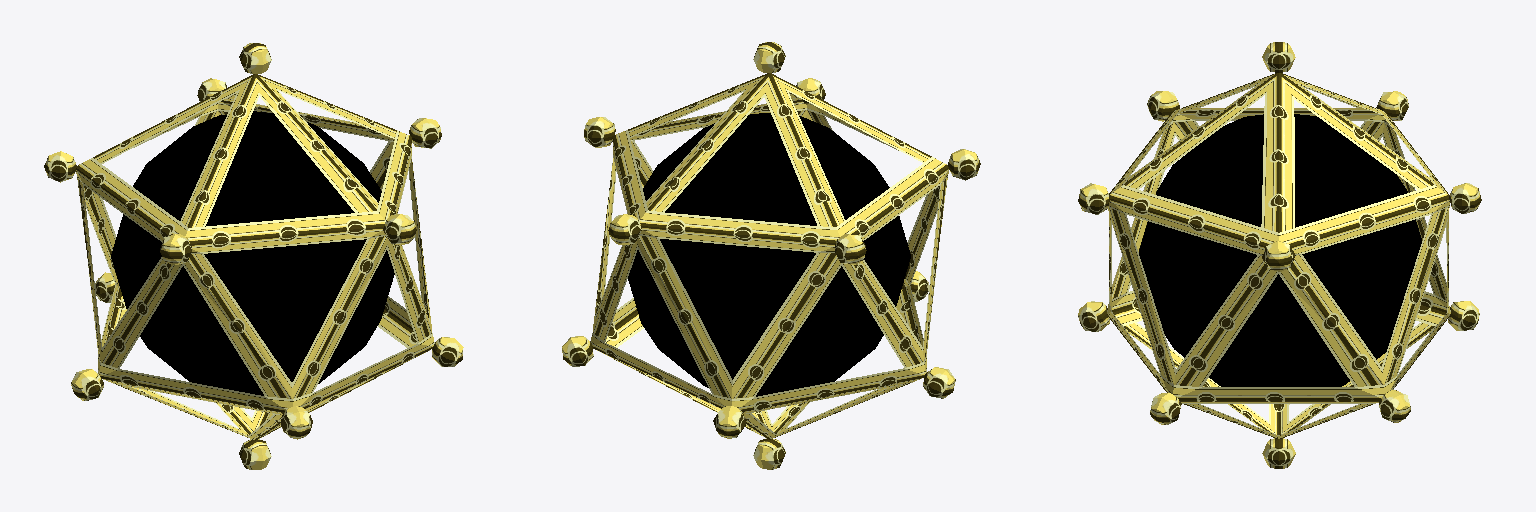
The picture shows the model from 3 angles: view 1: azimuth 30°, elevation 25°; view 2: azimuth 150°, elevation 25°; view 3: azimuth 270°, elevation 25°; orthographic projection.
Parts seen in each view (by area): view 1: creature/titanorb/titanorb.m2_Geoset_000; view 2: creature/titanorb/titanorb.m2_Geoset_000; view 3: creature/titanorb/titanorb.m2_Geoset_000.
Part boxes in pixels (left/top/right/bottom): creature/titanorb/titanorb.m2_Geoset_000: left=44, top=43, right=463, bottom=469; creature/titanorb/titanorb.m2_Geoset_000: left=562, top=42, right=980, bottom=469; creature/titanorb/titanorb.m2_Geoset_000: left=1078, top=42, right=1481, bottom=468.
Size of the model in its own units: 4.07 by 4.53 by 3.88.
2 materials, 1 textured.